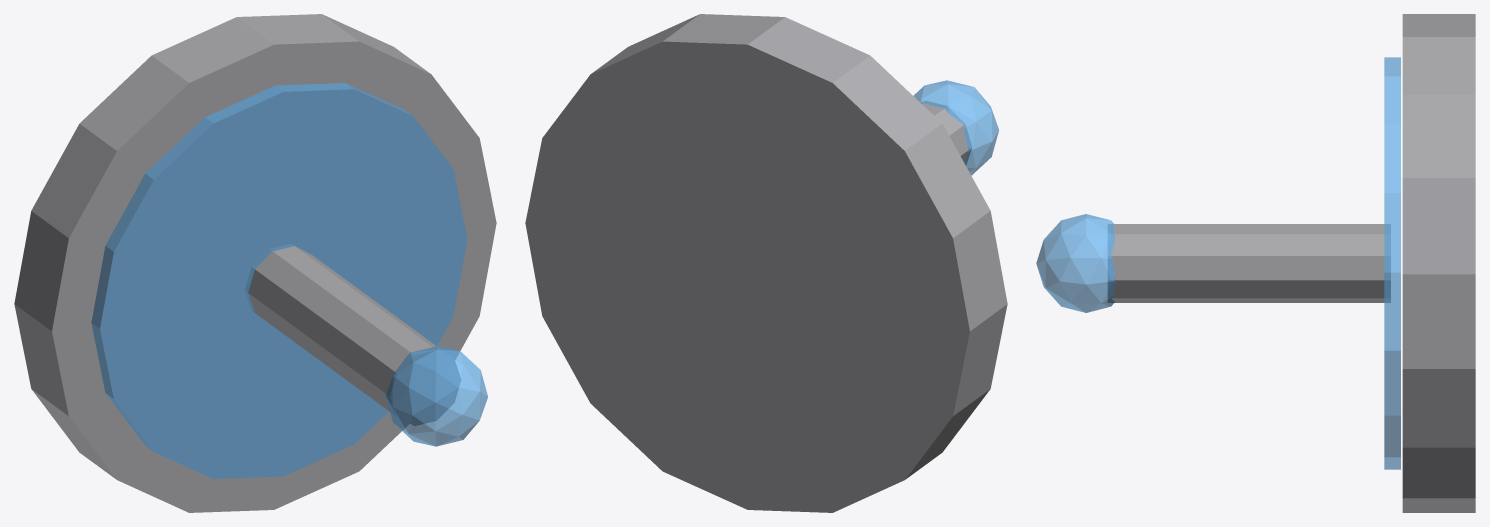
Rendered from town_fountain.glb.
3 views of the same model, side by side, from view 1: azimuth 30°, elevation 25°; view 2: azimuth 150°, elevation 25°; view 3: azimuth 270°, elevation 25° (orthographic). The views are drawn at different scales.
Visible parts, largest first — view 1: basin, water, spout, water_orb; view 2: basin, water_orb, spout; view 3: basin, spout, water, water_orb.
Part boxes in pixels (left/top/right/bottom): basin: left=14, top=14, right=496, bottom=512; water: left=91, top=83, right=467, bottom=478; spout: left=245, top=244, right=460, bottom=425; water_orb: left=385, top=346, right=487, bottom=446; basin: left=525, top=14, right=1007, bottom=512; water_orb: left=913, top=80, right=998, bottom=175; spout: left=921, top=101, right=971, bottom=164; basin: left=1402, top=14, right=1475, bottom=512; spout: left=1108, top=224, right=1390, bottom=302; water: left=1384, top=57, right=1400, bottom=469; water_orb: left=1036, top=214, right=1115, bottom=312.
Size of the model in its own units: 1.5 by 1.5 by 1.32.
